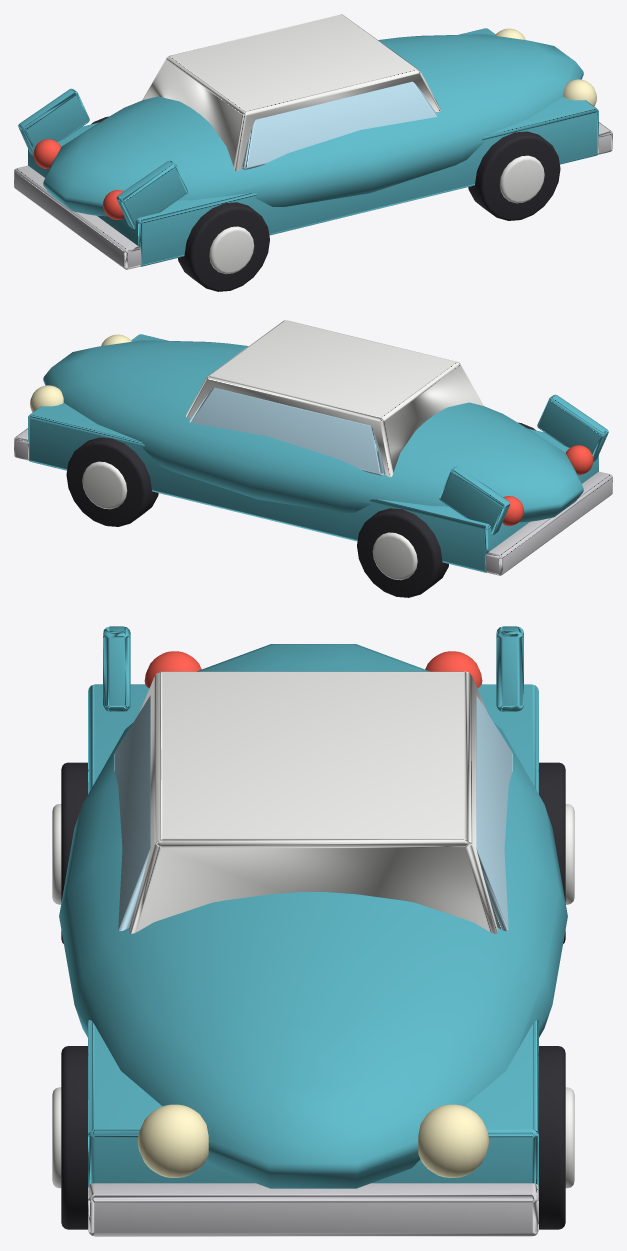
The model's file is carro_50.glb.
The picture shows the model from 3 angles, top to bottom: view 1: azimuth 30°, elevation 25°; view 2: azimuth 150°, elevation 25°; view 3: azimuth 270°, elevation 25°; orthographic projection. The views are drawn at different scales.
Parts seen in each view (by area): view 1: carro_50, wheelz_TD, wheelz_FD, wheelz_TE; view 2: carro_50, wheelz_TE, wheelz_FE, wheelz_TD; view 3: carro_50, wheelz_FE, wheelz_FD, wheelz_TD, wheelz_TE.
Boxes of the visible parts, <box> form: carro_50: <box>14,14,612,269</box>; wheelz_TD: <box>116,160,269,291</box>; wheelz_FD: <box>468,131,560,220</box>; wheelz_TE: <box>18,88,108,155</box>; carro_50: <box>14,320,612,575</box>; wheelz_TE: <box>357,466,510,597</box>; wheelz_FE: <box>66,437,158,526</box>; wheelz_TD: <box>518,394,608,461</box>; carro_50: <box>59,644,567,1236</box>; wheelz_FE: <box>538,1046,574,1229</box>; wheelz_FD: <box>52,1046,88,1229</box>; wheelz_TD: <box>52,626,130,943</box>; wheelz_TE: <box>496,626,574,943</box>.
Size of the model in its own units: 5.18 by 1.46 by 2.26.
